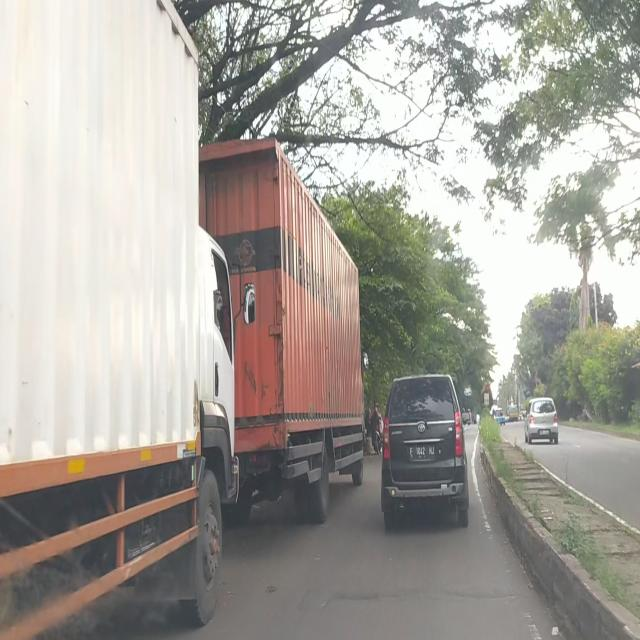Sewer Cover: (334, 589, 516, 606)
